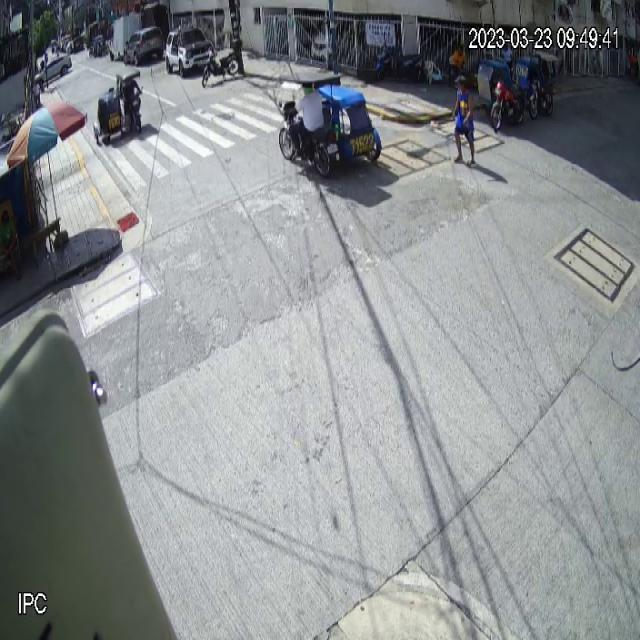Tricycle: (276, 66, 382, 177), (93, 67, 144, 144), (476, 57, 525, 130)
